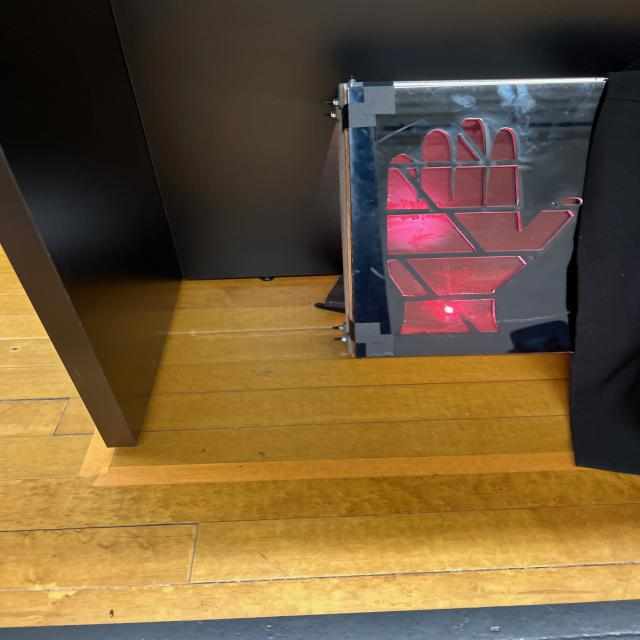stop: (350, 89, 579, 352)
